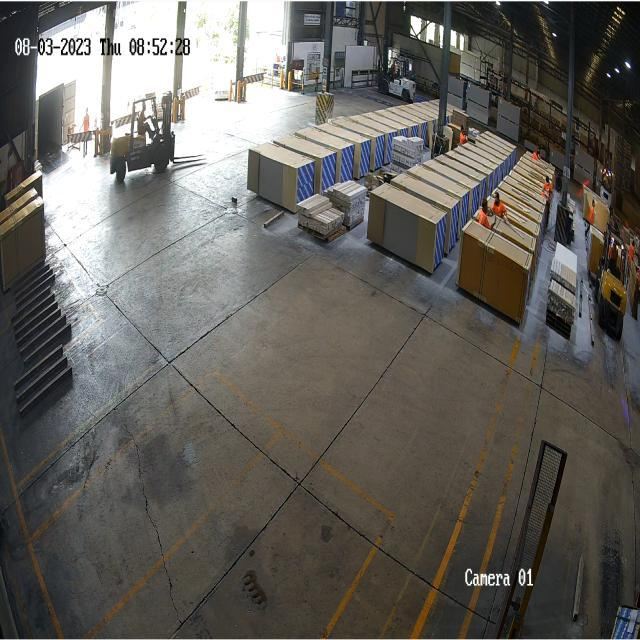forklift: (110, 91, 176, 184), (596, 223, 630, 344), (378, 55, 416, 104)
person: (492, 192, 507, 221), (479, 195, 491, 228), (82, 108, 90, 132)
